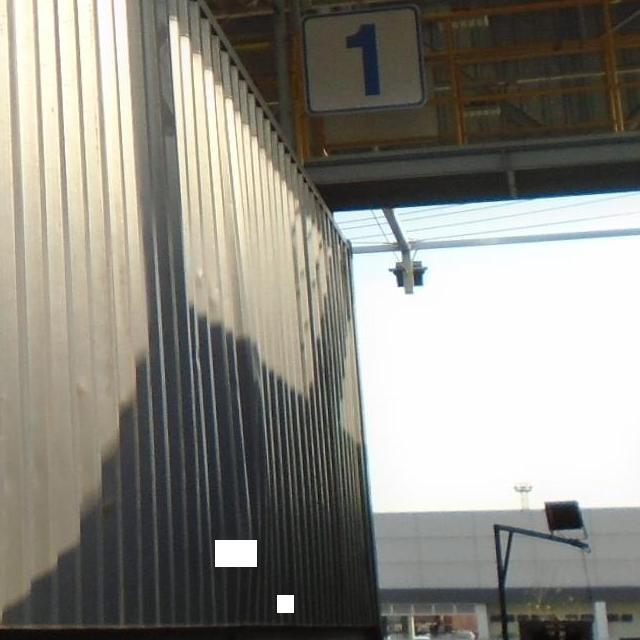dent: (233, 351, 278, 530)
